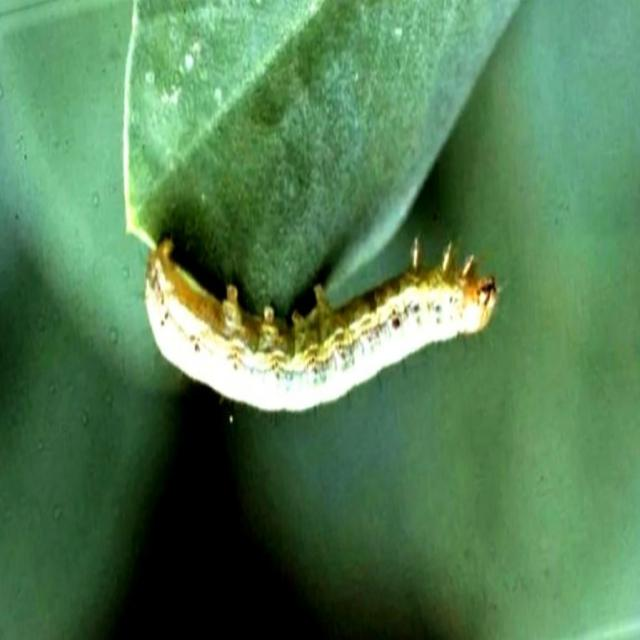Armyworm: (139, 238, 520, 459)
